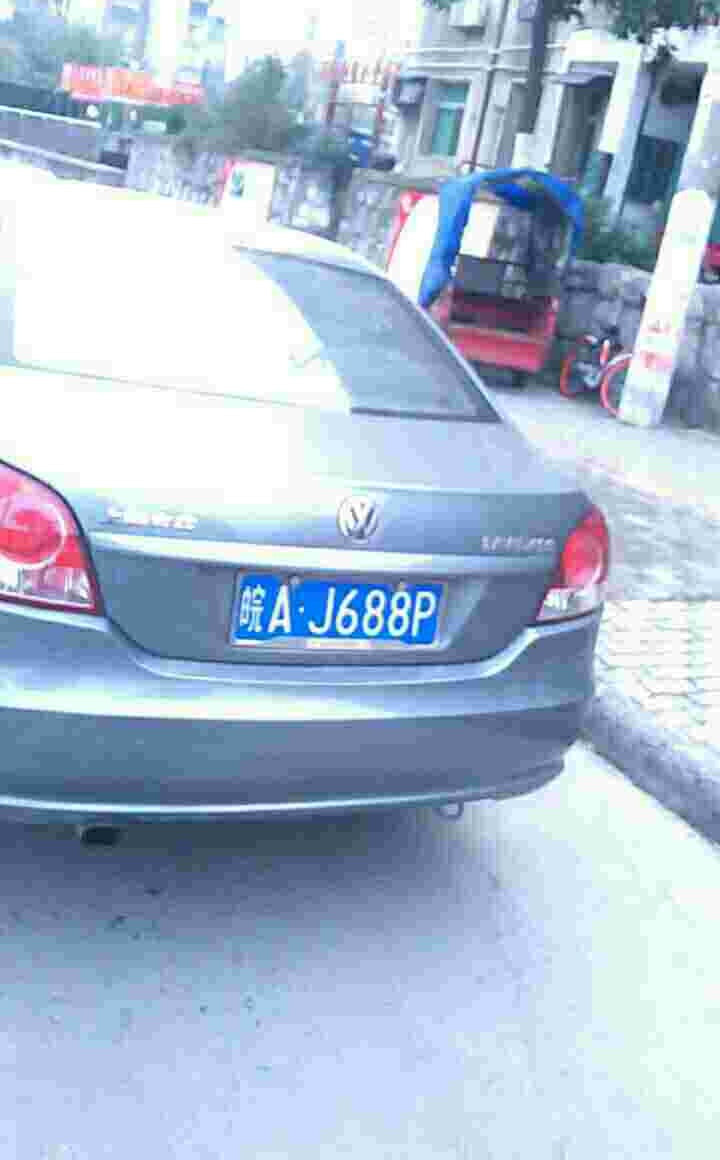license_plate: (244, 572, 458, 648)
